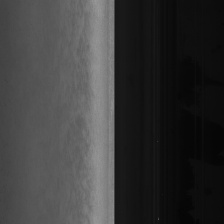silk_spot: (69, 37, 96, 150)
